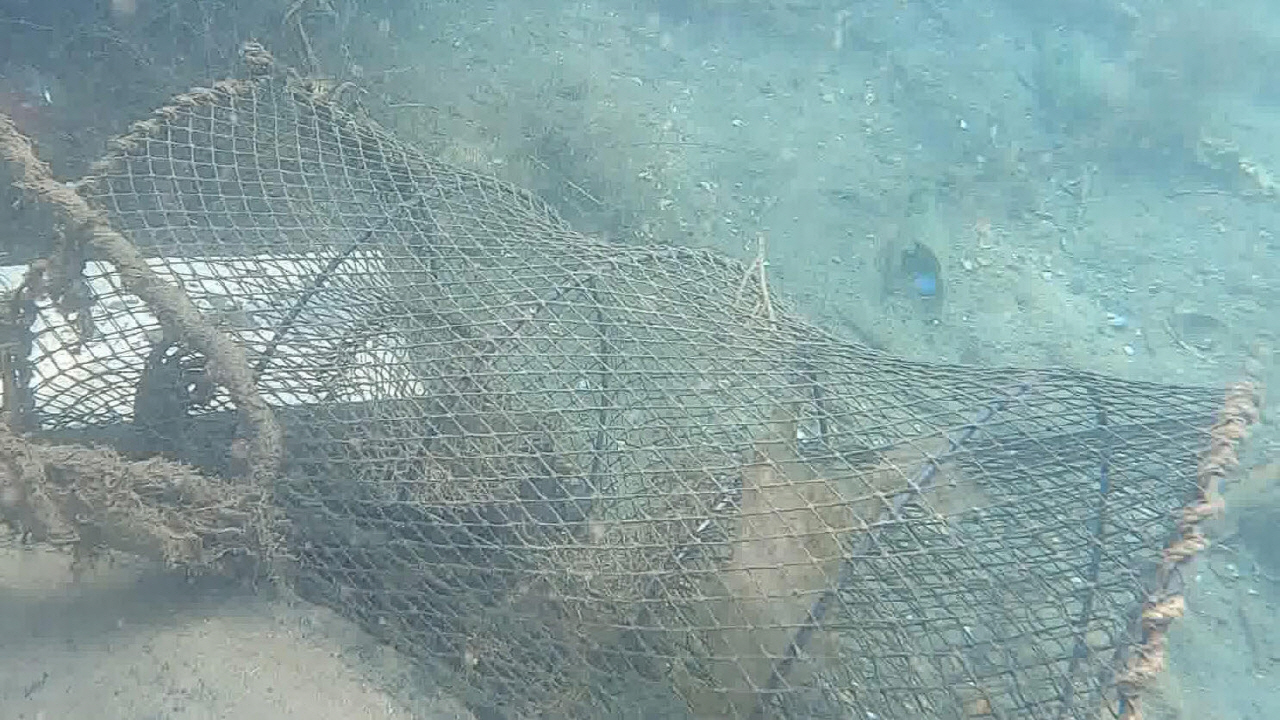spring fish trap: (4, 72, 1262, 720)
